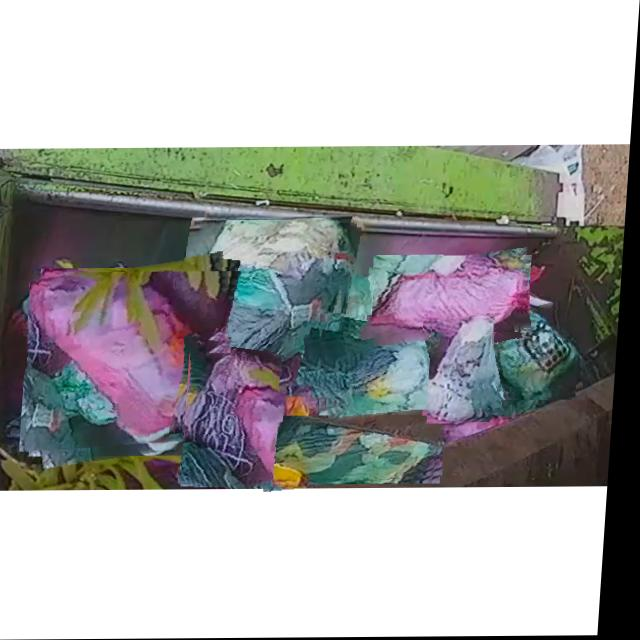general_trashbag: (182, 221, 355, 389), (267, 423, 445, 487), (325, 316, 446, 410), (488, 312, 582, 400), (347, 276, 406, 345)
other_trashbag: (33, 273, 235, 446), (191, 354, 279, 488), (377, 256, 530, 333), (433, 319, 498, 422)
